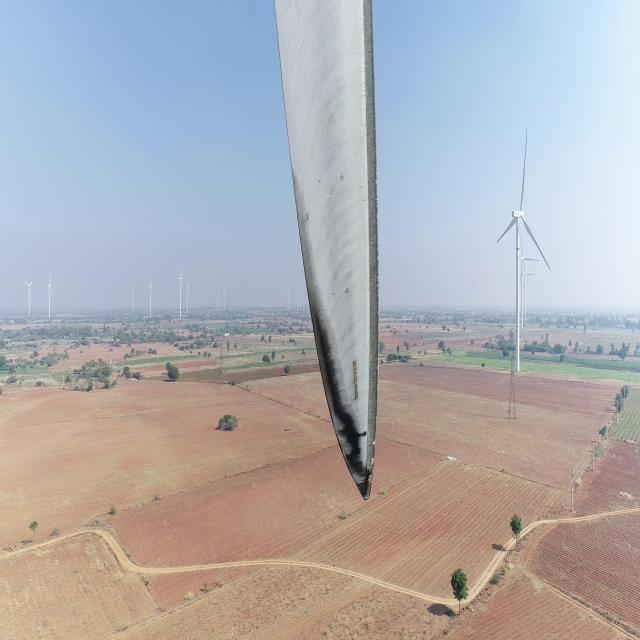Dirt: (275, 4, 380, 507)
Oil LEAKAGE: (307, 298, 376, 502)
Pin Hole: (360, 430, 370, 440)
